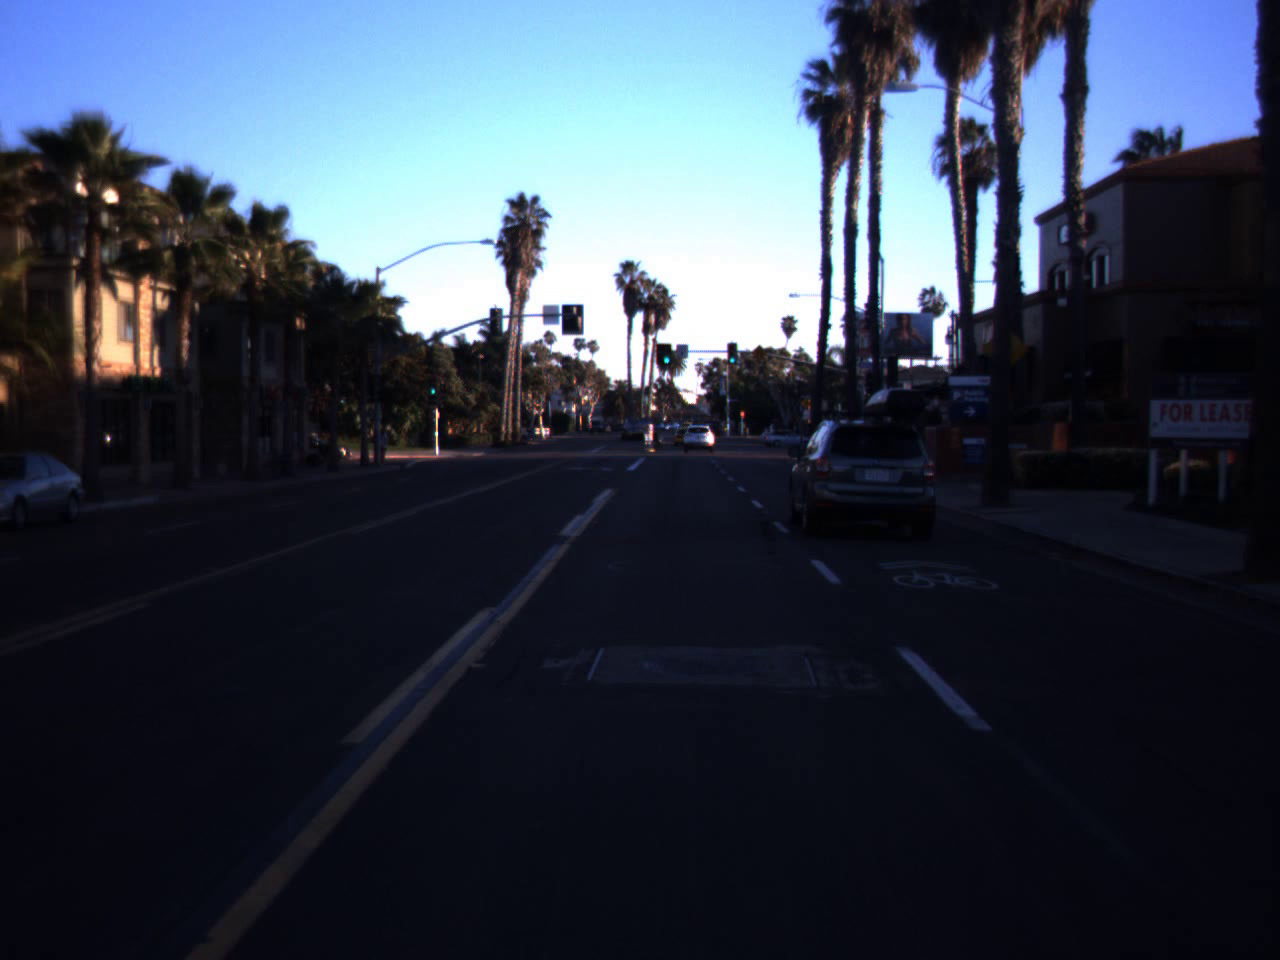go: (660, 340, 672, 365), (726, 344, 738, 364)
